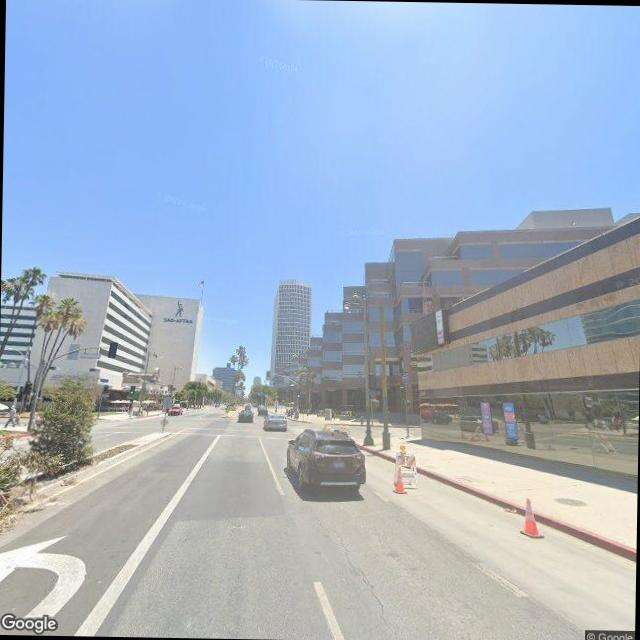pothole: (314, 512, 392, 627)
